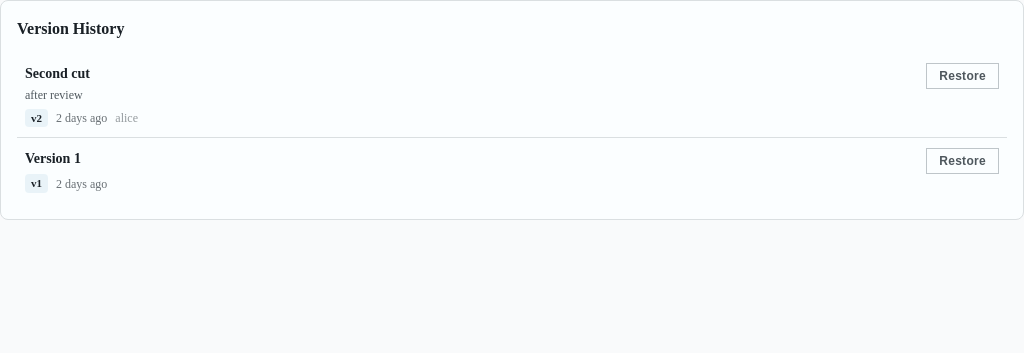
VersionHistory › removes a deleted version from the list and closes its preview
Expected: the text "Second cut" is shown, [25,63,90,84]
Click the button "Second cut after review v2 2 days ago alice" at (57, 74), box [25,63,916,127]
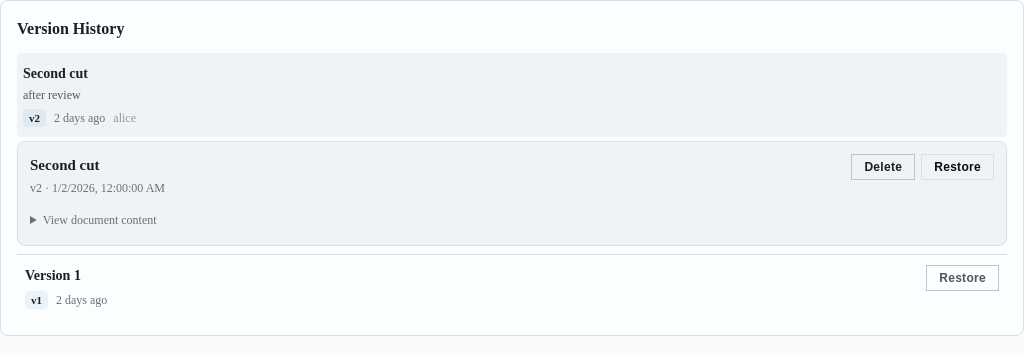
Result: the element that starts with "Second cut" is shown at [17,141,1007,246]
Click the button "Delete" at (883, 167), box [851,154,915,180]
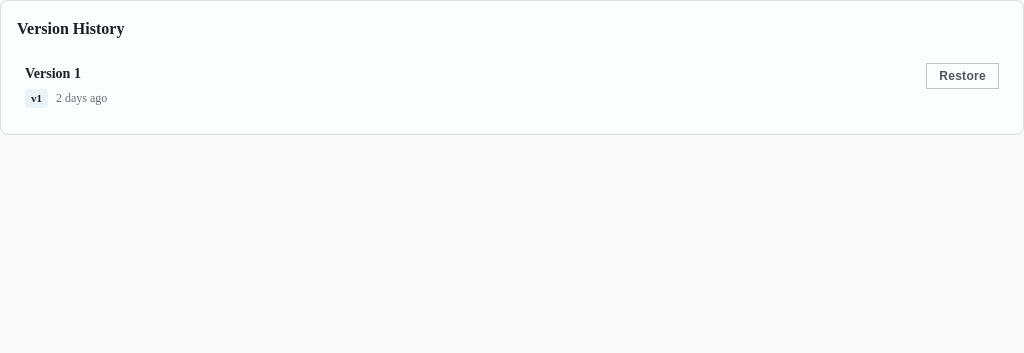
Result: the button "Second cut" is gone
